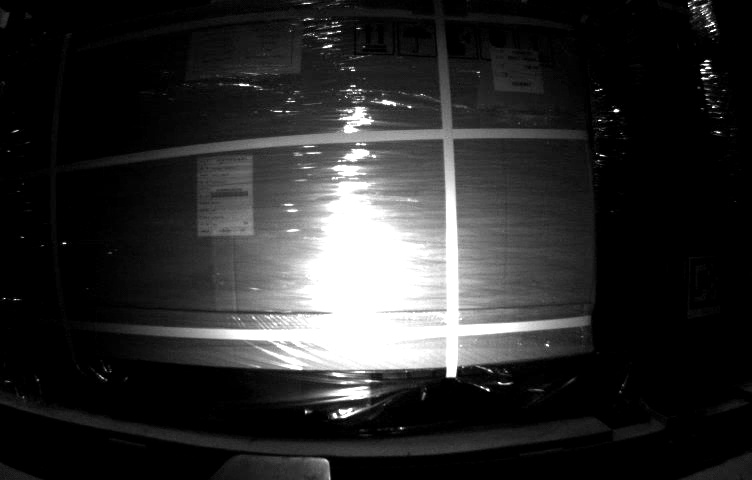True Barcode: (489, 44, 543, 95)
